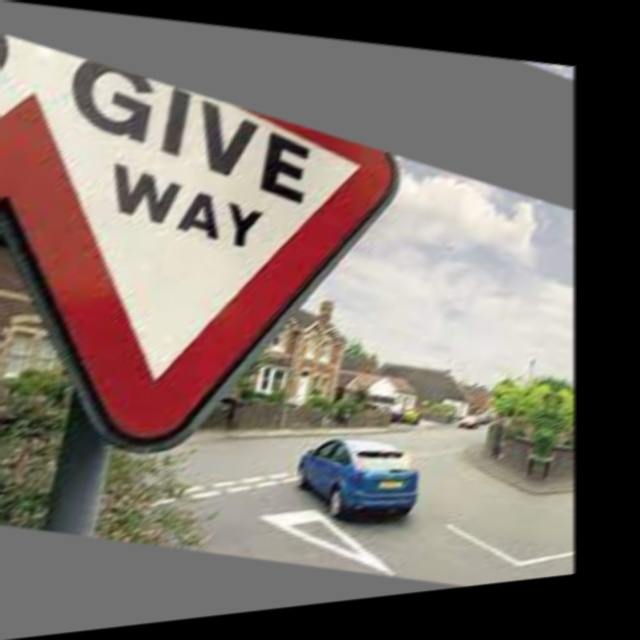Give_Way: (1, 44, 381, 436)
